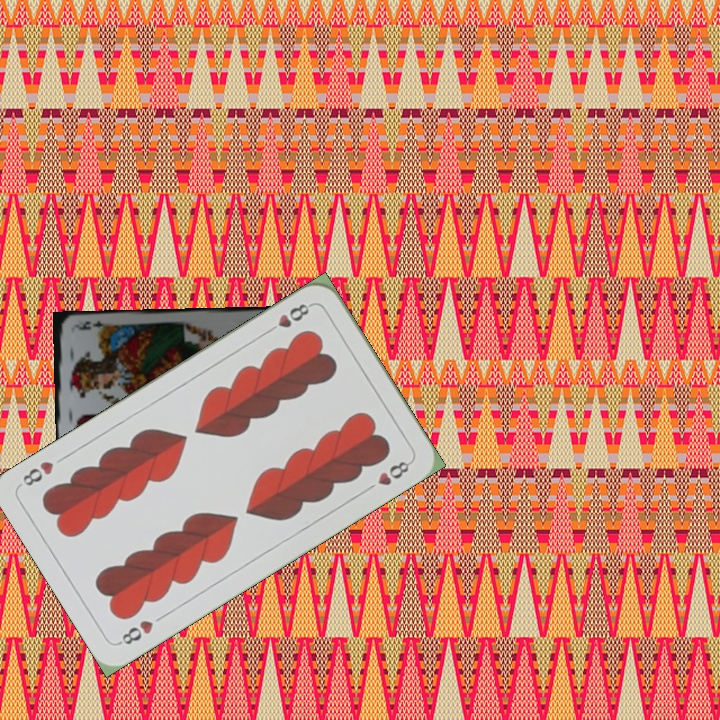H8: (262, 299, 315, 337), (114, 616, 156, 648)
